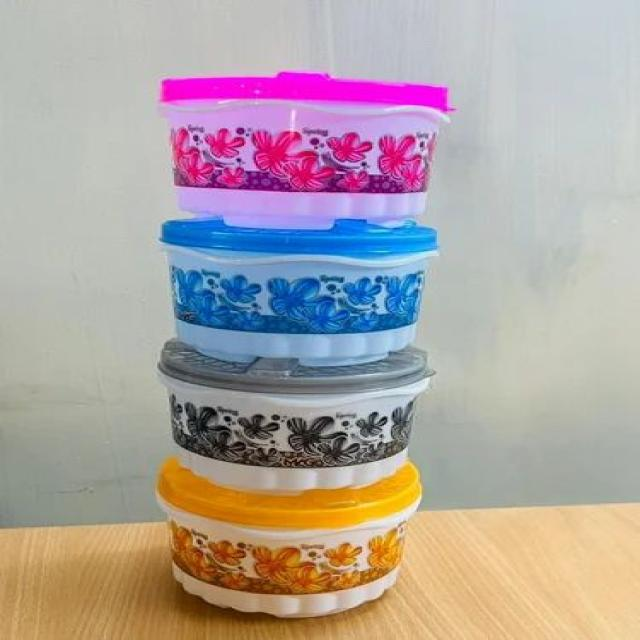plastic_box: (132, 464, 480, 640), (168, 61, 440, 230), (129, 216, 456, 356), (124, 355, 433, 481)
